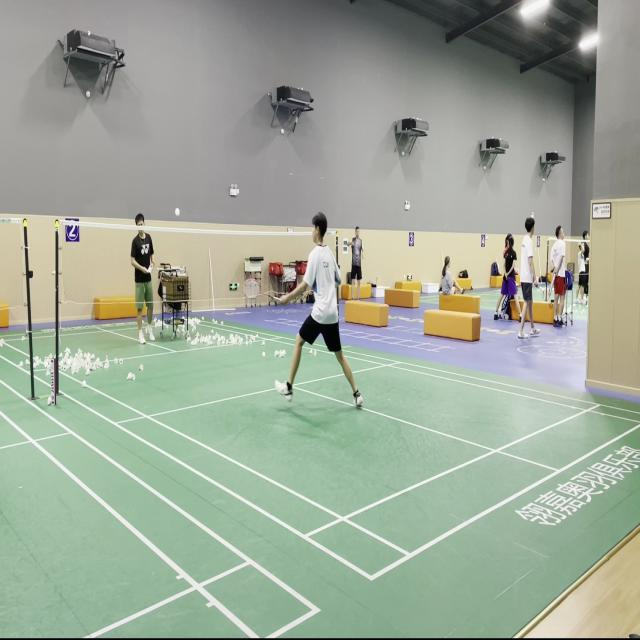shuttlecock: (174, 207, 180, 217)
